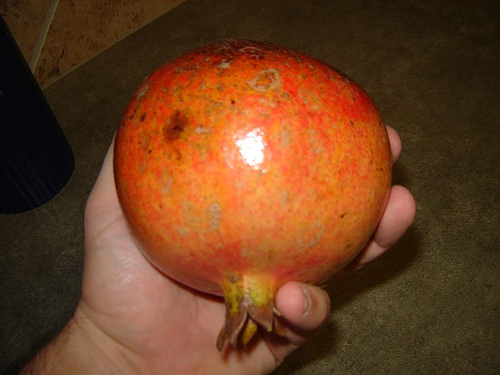pomogranate: (111, 37, 390, 352)
